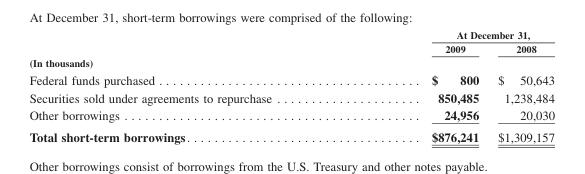table: (28, 29, 554, 143)
table column: (28, 29, 351, 143), (351, 29, 487, 143), (487, 29, 554, 143)
table column header: (28, 29, 554, 55)
table projected row header: (28, 55, 554, 70)
table row: (28, 105, 554, 125), (28, 70, 554, 88), (28, 125, 554, 143), (28, 88, 554, 105), (28, 55, 554, 70), (28, 41, 554, 55), (28, 29, 554, 41)
table spanning cell: (351, 29, 554, 41)
